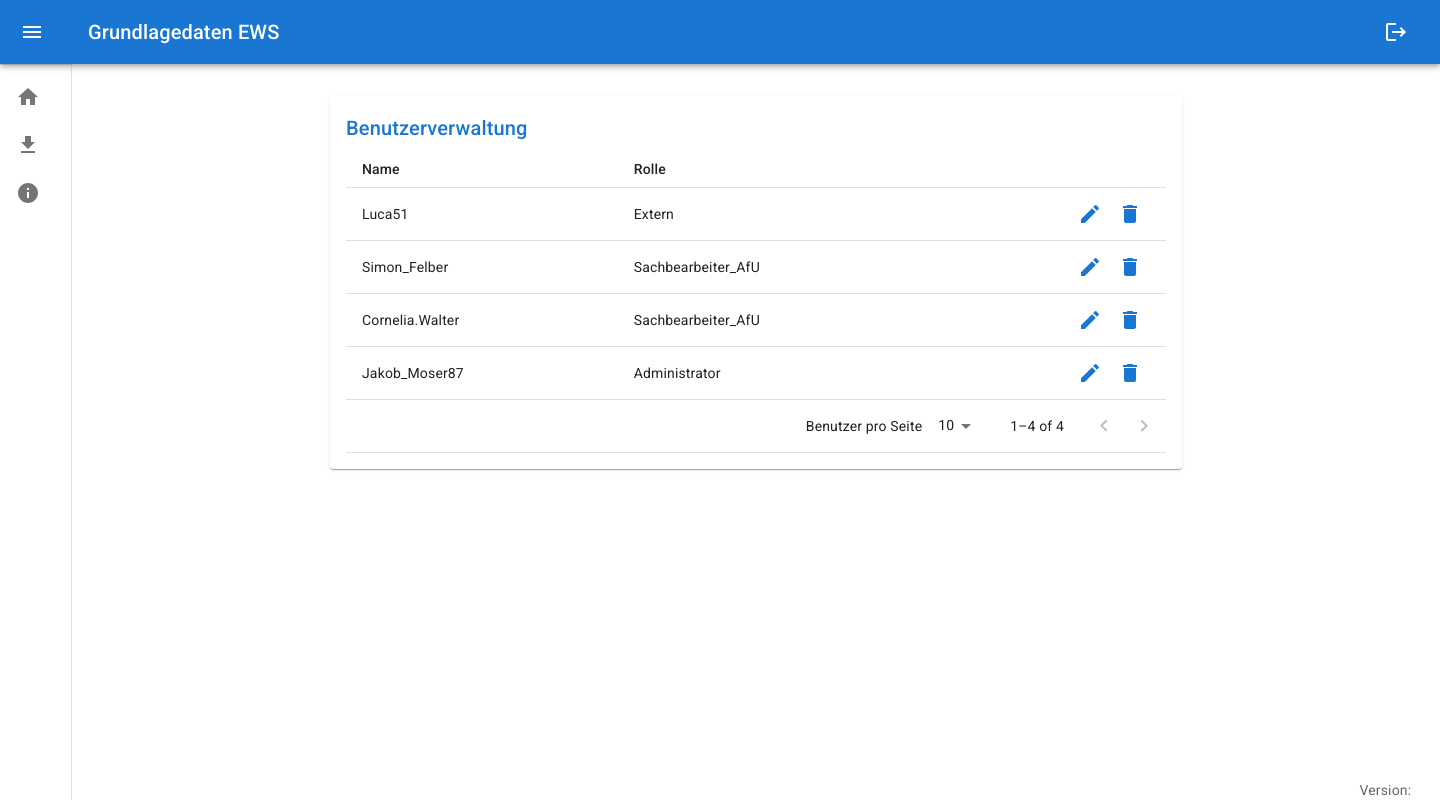
it: User page tests › Change role for an existing user
Expected: the text "Sachbearbeiter_AfU" next to "Cornelia.Walter" is shown, 634,312 -> 760,328
Click the button named "edit user" in the row of "Cornelia.Walter". click: [1090, 320]
box: 1070,300 -> 1110,340
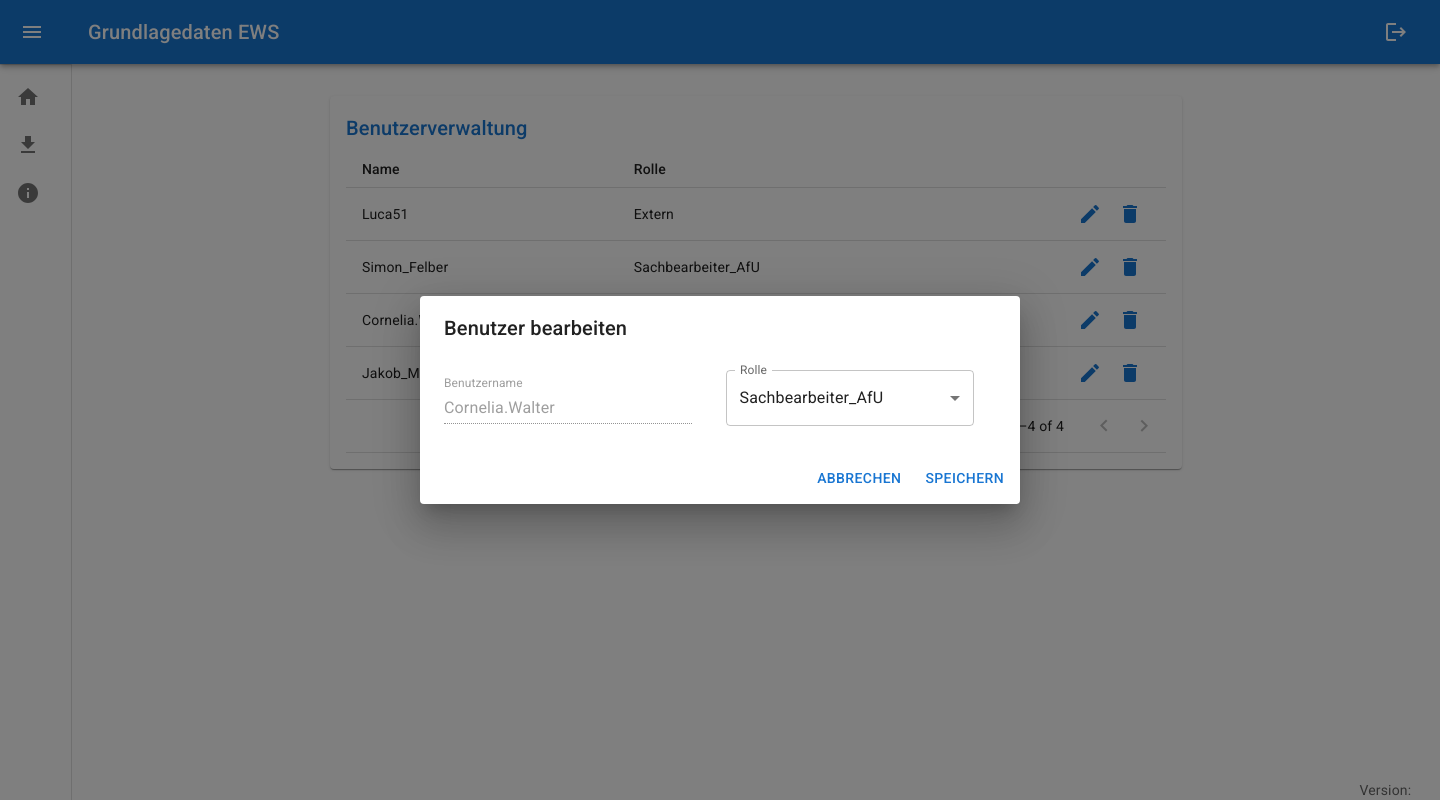
Click the element with test id "select-user-role". click: [850, 398]
box: 726,370 -> 974,426
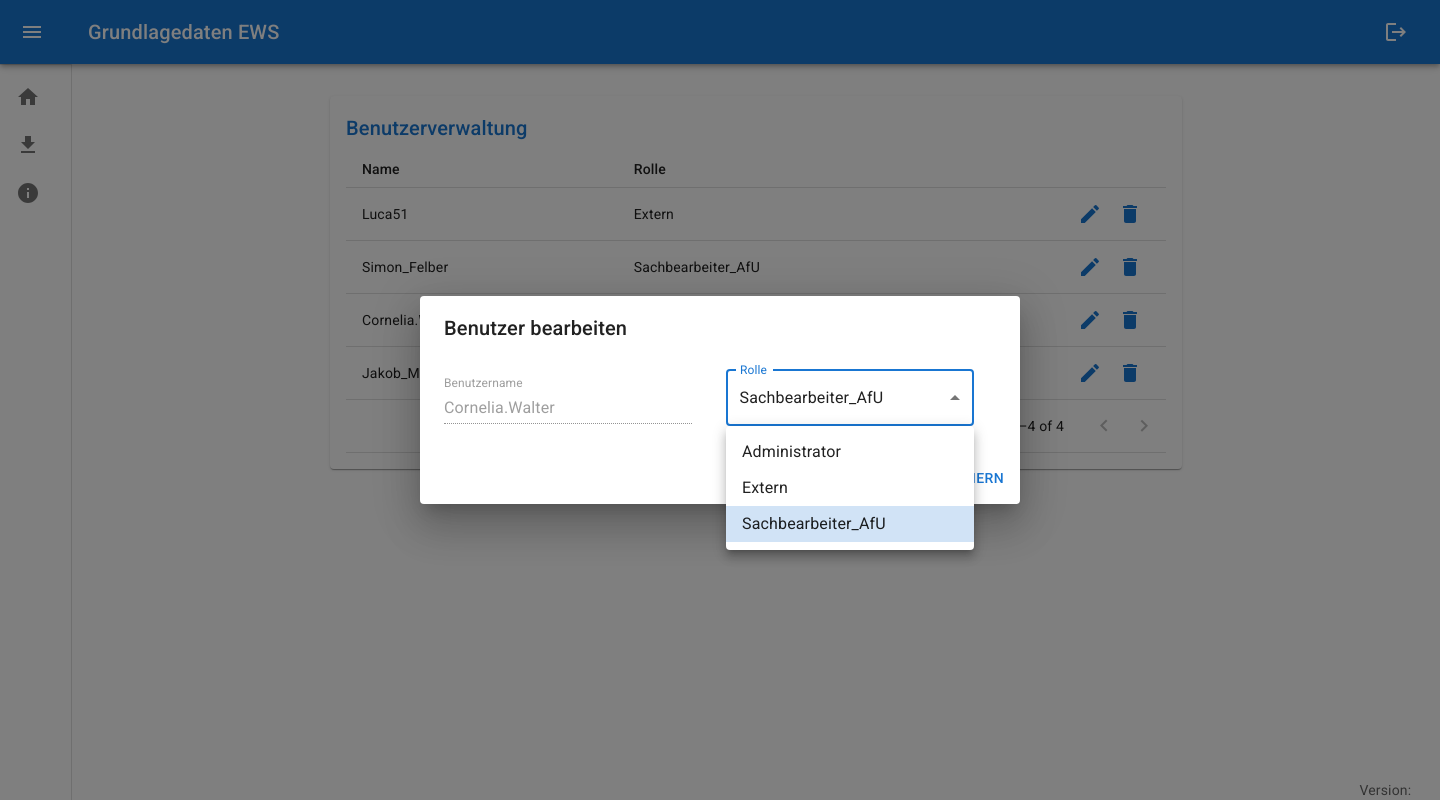
Click the option with test id "role-id-0". click: [792, 452]
box: 742,442 -> 841,461
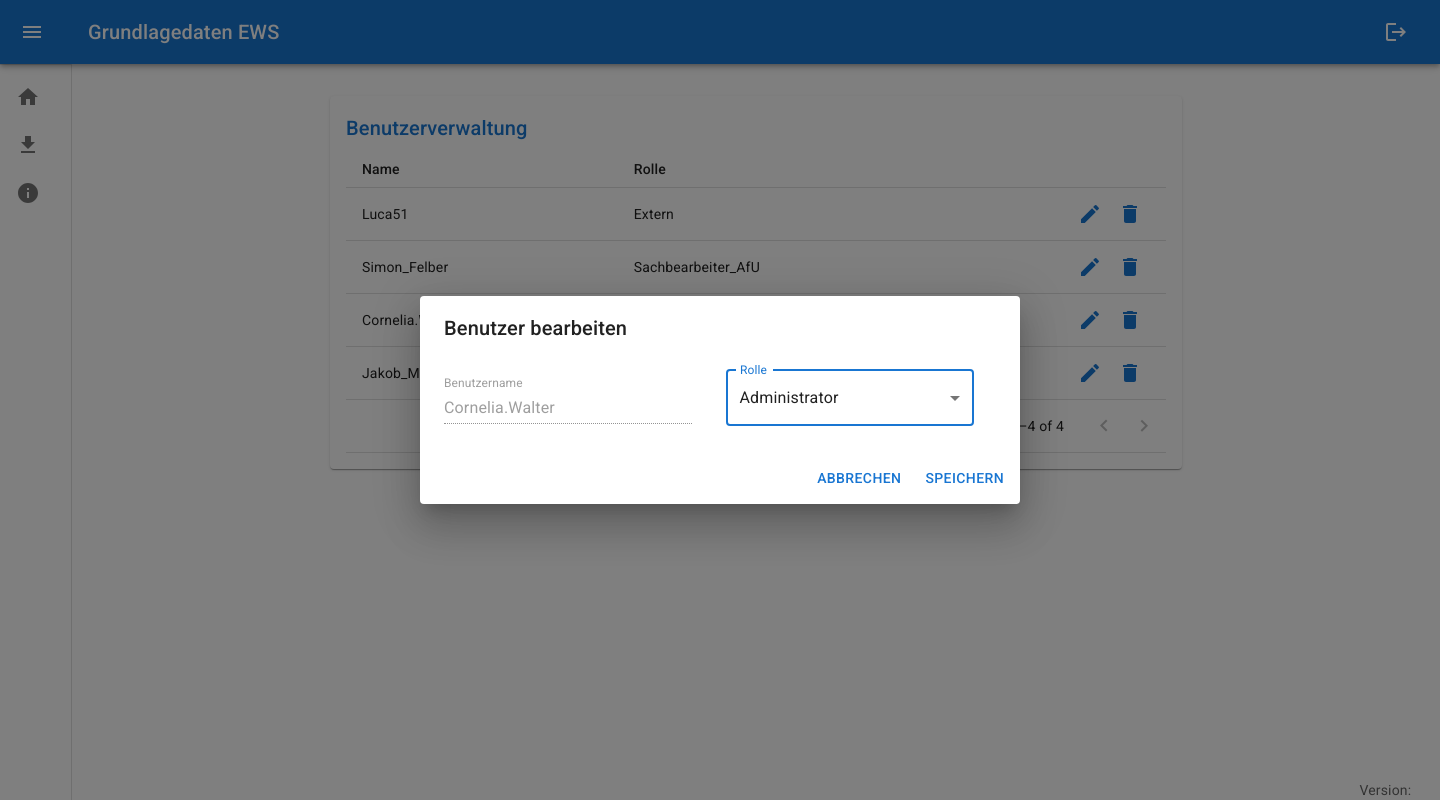
Click the button "Speichern". click: [965, 479]
box: 917,460 -> 1012,497
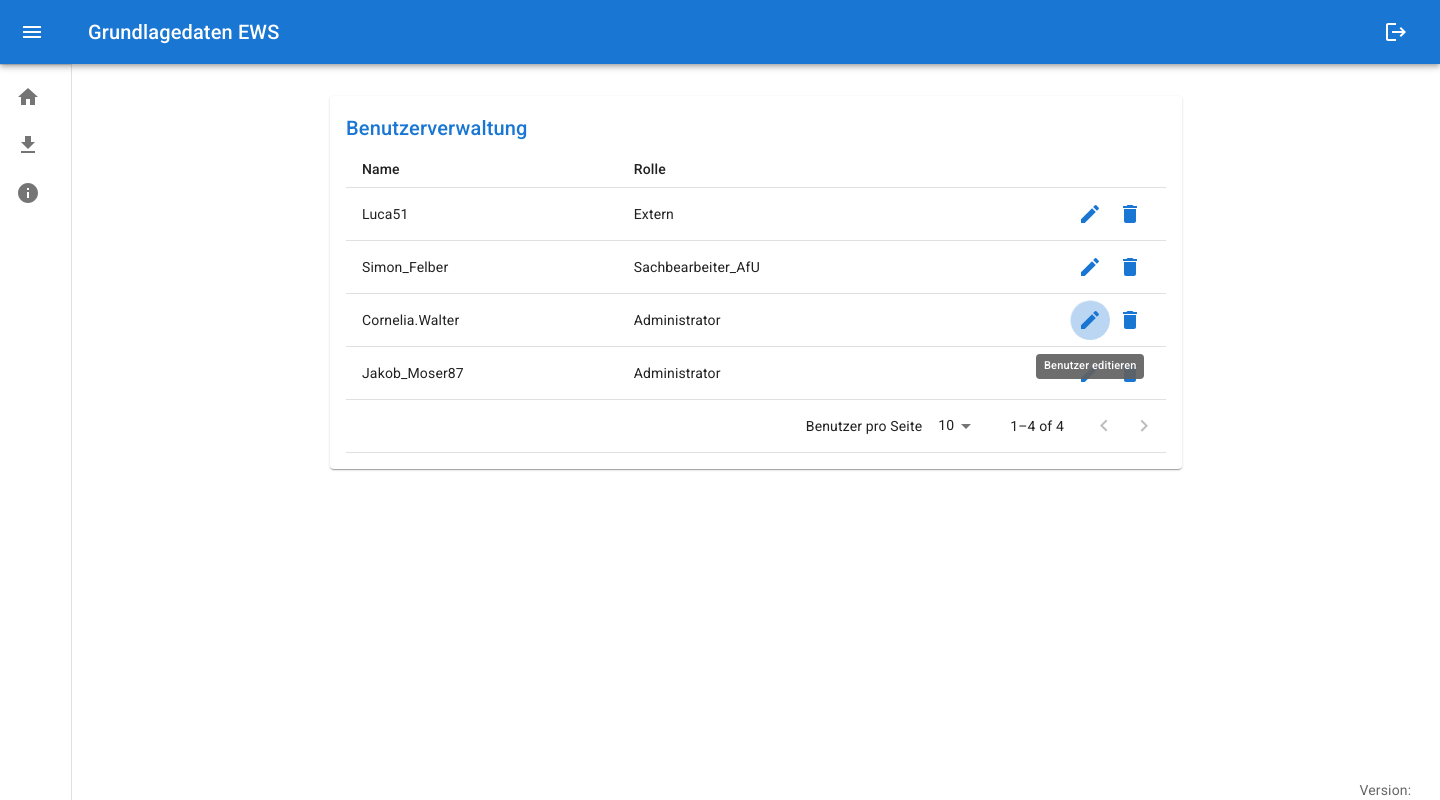
Expected: the text "Administrator" next to "Cornelia.Walter" is shown, 634,312 -> 721,328
